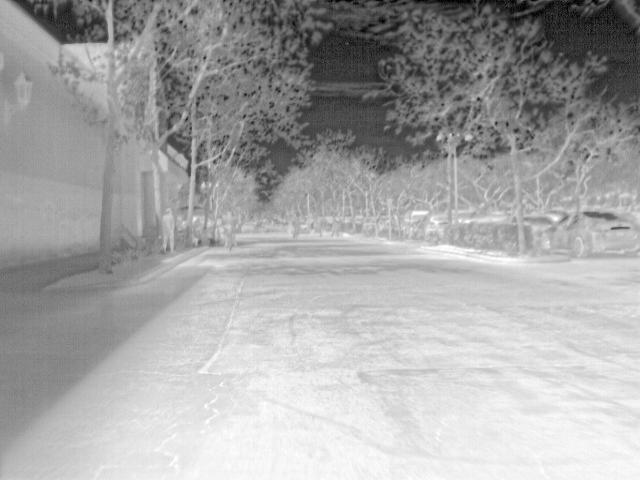car: (545, 207, 639, 258), (526, 212, 559, 230), (403, 209, 426, 227), (424, 213, 446, 229), (455, 208, 477, 223), (352, 214, 367, 225)
person: (159, 208, 179, 252), (328, 213, 343, 237), (223, 211, 236, 231), (292, 216, 304, 236), (313, 215, 325, 235)
